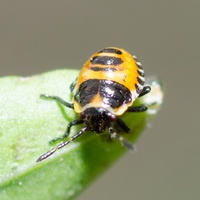insect: (37, 47, 150, 161)
